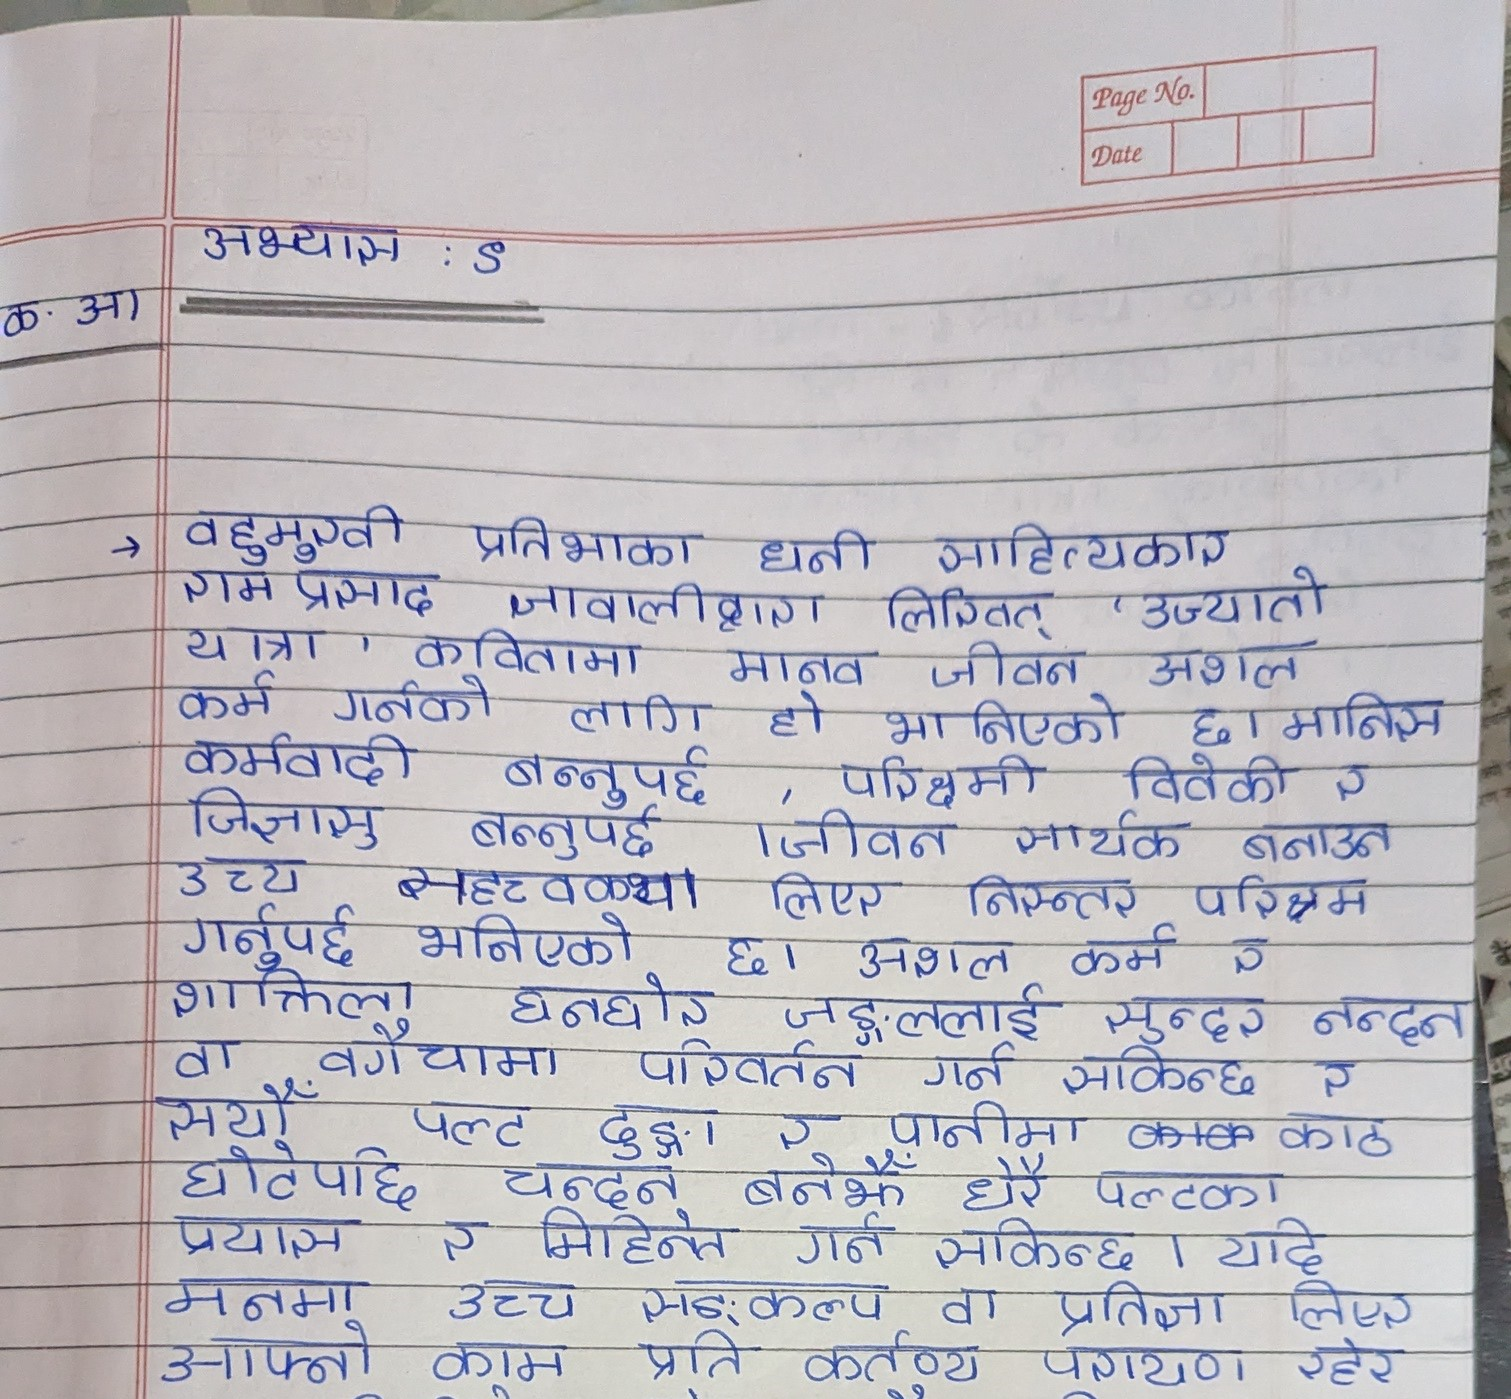text: (184, 193, 413, 304), (498, 576, 833, 630), (931, 515, 1232, 572), (778, 982, 1053, 1045), (390, 858, 713, 909), (179, 494, 407, 566), (455, 511, 713, 572), (176, 1142, 419, 1208), (495, 744, 720, 809), (150, 1321, 378, 1385), (168, 733, 426, 787), (634, 1273, 892, 1327), (412, 909, 636, 970), (630, 1038, 859, 1096), (172, 900, 366, 969), (163, 969, 420, 1019), (316, 1027, 558, 1079), (1128, 569, 1346, 626), (180, 784, 380, 848), (501, 973, 716, 1030), (879, 694, 1131, 742), (929, 1217, 1142, 1274), (829, 750, 1052, 804), (536, 1208, 746, 1265), (407, 626, 642, 676), (1189, 871, 1393, 924), (942, 869, 1157, 919), (883, 1096, 1079, 1150), (465, 807, 665, 858), (799, 1331, 988, 1385), (1117, 751, 1307, 804), (1308, 986, 1468, 1048), (1033, 1342, 1266, 1385), (1061, 1048, 1257, 1098), (159, 1081, 321, 1141), (1140, 634, 1325, 687), (744, 1156, 917, 1211), (1268, 691, 1454, 742), (1006, 809, 1192, 861), (774, 808, 960, 859), (151, 1274, 375, 1316), (1092, 1163, 1291, 1211), (168, 1213, 371, 1259), (845, 927, 1017, 980), (1054, 1281, 1231, 1332), (495, 1158, 686, 1206), (1104, 988, 1264, 1044), (882, 583, 1056, 632), (715, 634, 869, 688), (329, 673, 494, 723), (399, 1090, 537, 1149), (909, 642, 1091, 687), (588, 1099, 721, 1159), (446, 1273, 598, 1325), (430, 1333, 590, 1382), (1279, 1281, 1429, 1331), (1236, 817, 1408, 861), (1217, 1219, 1343, 1277), (749, 519, 873, 575), (759, 873, 906, 920), (294, 569, 444, 615), (1271, 1109, 1403, 1159), (180, 623, 326, 667), (569, 690, 715, 734), (168, 850, 315, 895), (638, 1329, 752, 1385), (172, 666, 280, 723), (1296, 1336, 1412, 1386), (1067, 923, 1185, 971), (956, 1153, 1052, 1208), (924, 1044, 1023, 1092), (798, 1213, 895, 1262), (457, 218, 523, 288), (766, 1103, 852, 1156), (68, 272, 132, 340), (708, 924, 781, 980), (1171, 695, 1241, 751), (170, 1029, 243, 1082), (1, 282, 50, 361), (176, 569, 276, 607), (430, 1209, 495, 1266), (763, 688, 831, 738), (1307, 1054, 1375, 1100), (938, 1285, 1004, 1331), (1219, 933, 1281, 980), (1321, 755, 1371, 801)
